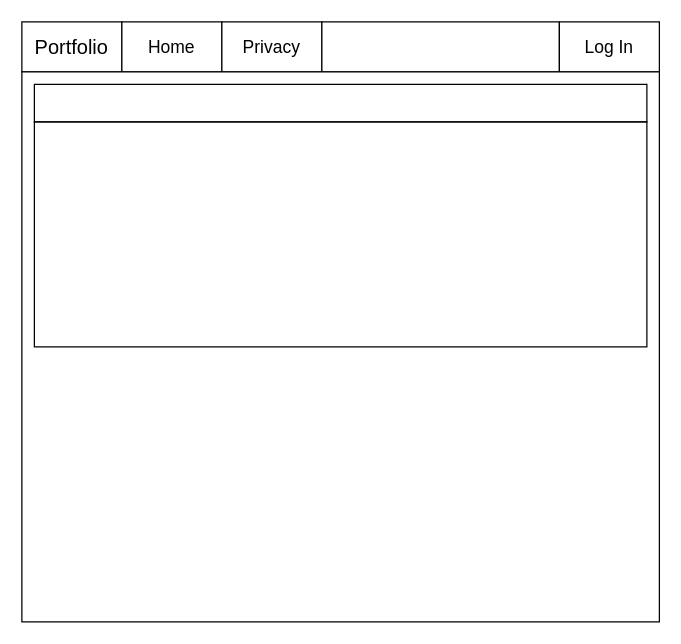
Some shapes in this 681 by 644 pixel diagram are drawn without their labels. The shapes that lost their labels are listed below. From the top down, each one's centre as x and y in pixels, then its label:
point (340, 102): Privacy Policy
point (340, 234): {{privacy_policy}}
